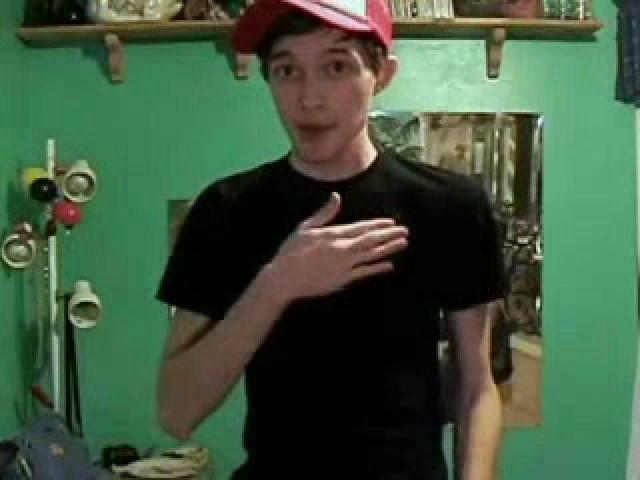F: (155, 5, 502, 476)
